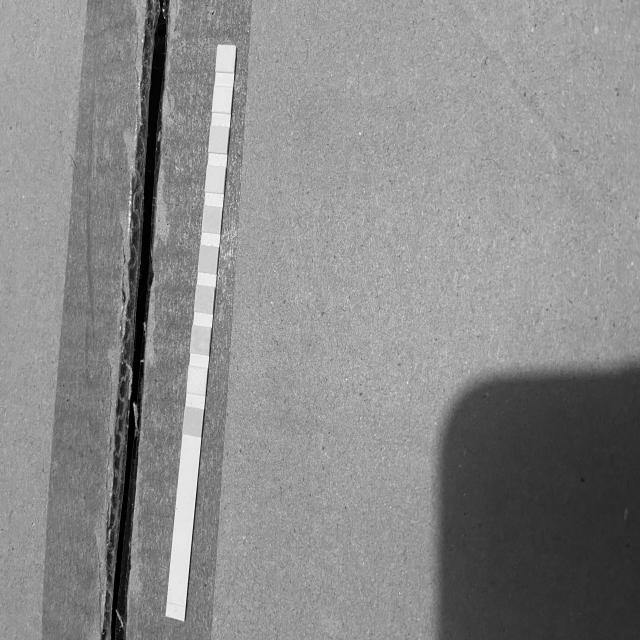Bilirubin: (189, 368, 205, 393)
Blood: (200, 246, 217, 272)
Glucose: (186, 408, 202, 435)
Ketone: (192, 327, 210, 353)
Leukocytes: (218, 47, 234, 71)
Nitrite: (214, 88, 231, 113)
Protein: (207, 168, 224, 192)
SpGravity: (196, 287, 213, 312)
Urobilinogen: (210, 128, 227, 153)
background: (0, 0, 640, 640)
pH: (204, 207, 221, 232)
strip: (166, 44, 237, 621)
